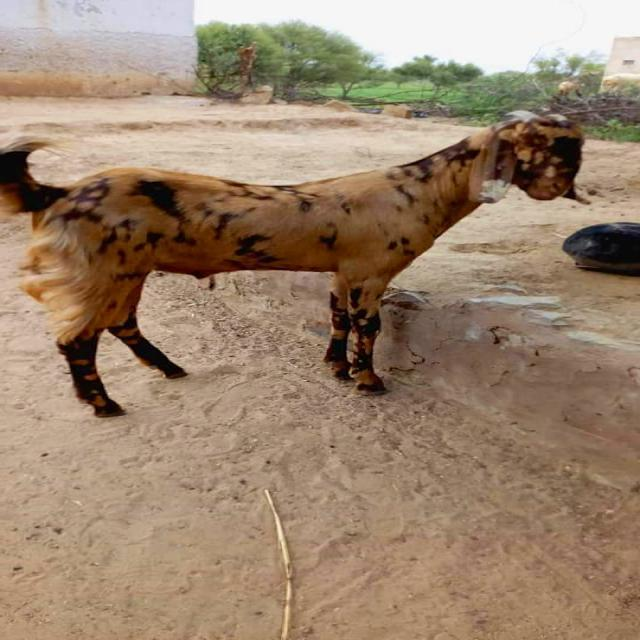Goat: (1, 110, 589, 418), (600, 72, 640, 94), (556, 80, 584, 100)
